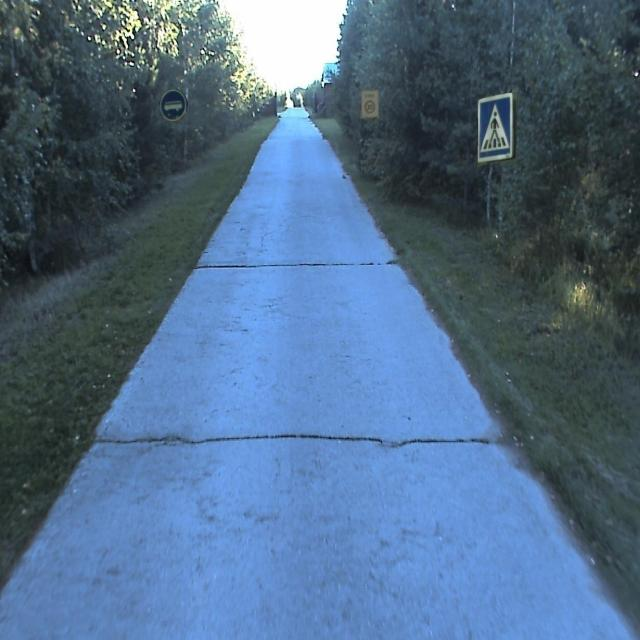road: (0, 107, 633, 639)
